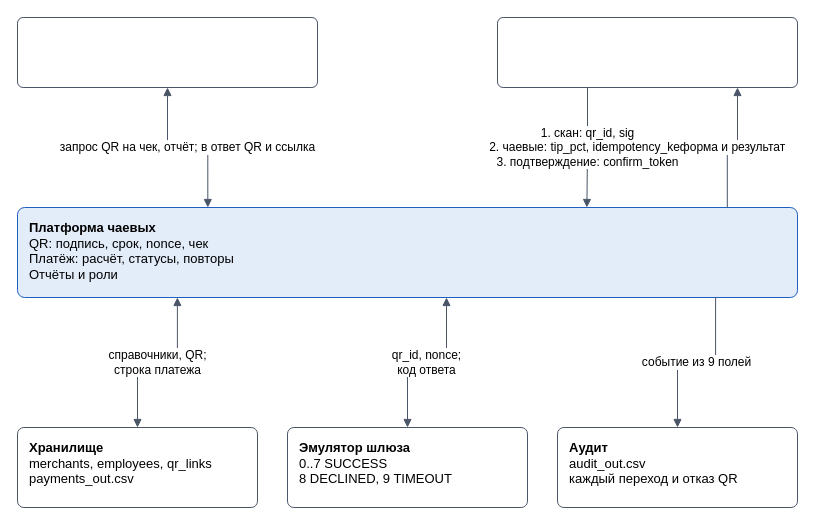
This 815x525 diagram has some shape labels left out. The shapes that lost their labels are listed below. From the top down, each one's centre as x and y in pixels, then its label:
the point at 167,52: Мерчант, официант кабинет: выпуск QR, отчёты
the point at 647,52: Клиент телефон, без регистрации сканирует QR, выбирает чаевые
